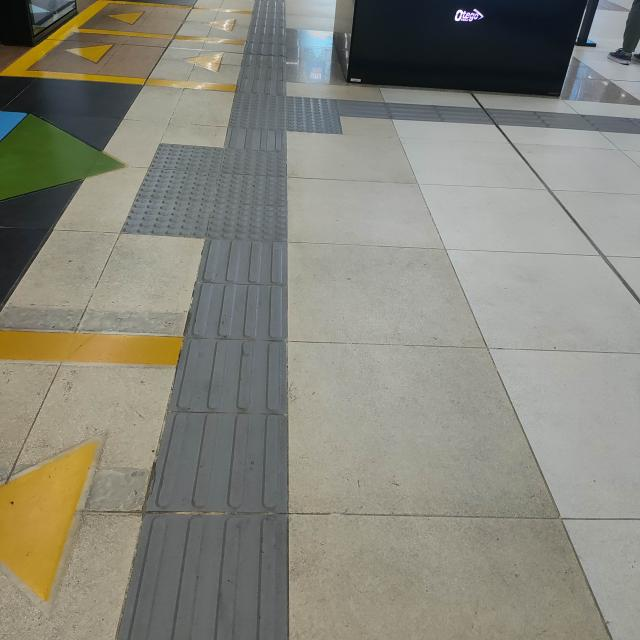lurus: (150, 74, 298, 640)
